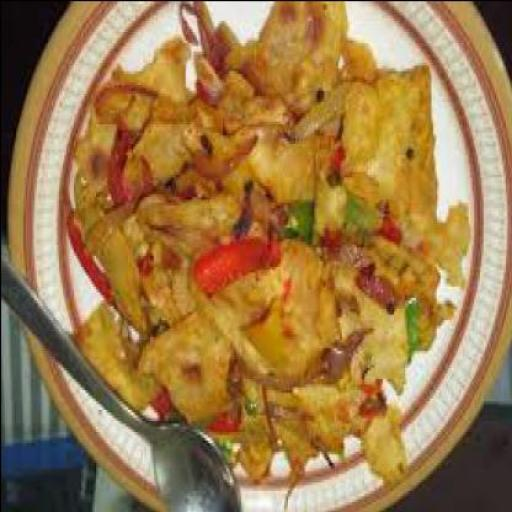biodegradable: (70, 2, 478, 511), (344, 72, 438, 244), (354, 230, 456, 364), (64, 286, 160, 420), (326, 260, 419, 398), (260, 369, 354, 501), (95, 44, 197, 143), (258, 2, 348, 114), (70, 109, 131, 260), (118, 107, 208, 190), (184, 2, 266, 84), (147, 380, 248, 442), (346, 378, 404, 484), (223, 394, 279, 496), (254, 137, 328, 213), (70, 207, 118, 314), (198, 241, 278, 302), (185, 128, 261, 188), (416, 210, 474, 288), (176, 92, 230, 152), (339, 33, 376, 84), (322, 344, 368, 383), (147, 383, 177, 423)
metal: (2, 260, 244, 512)
